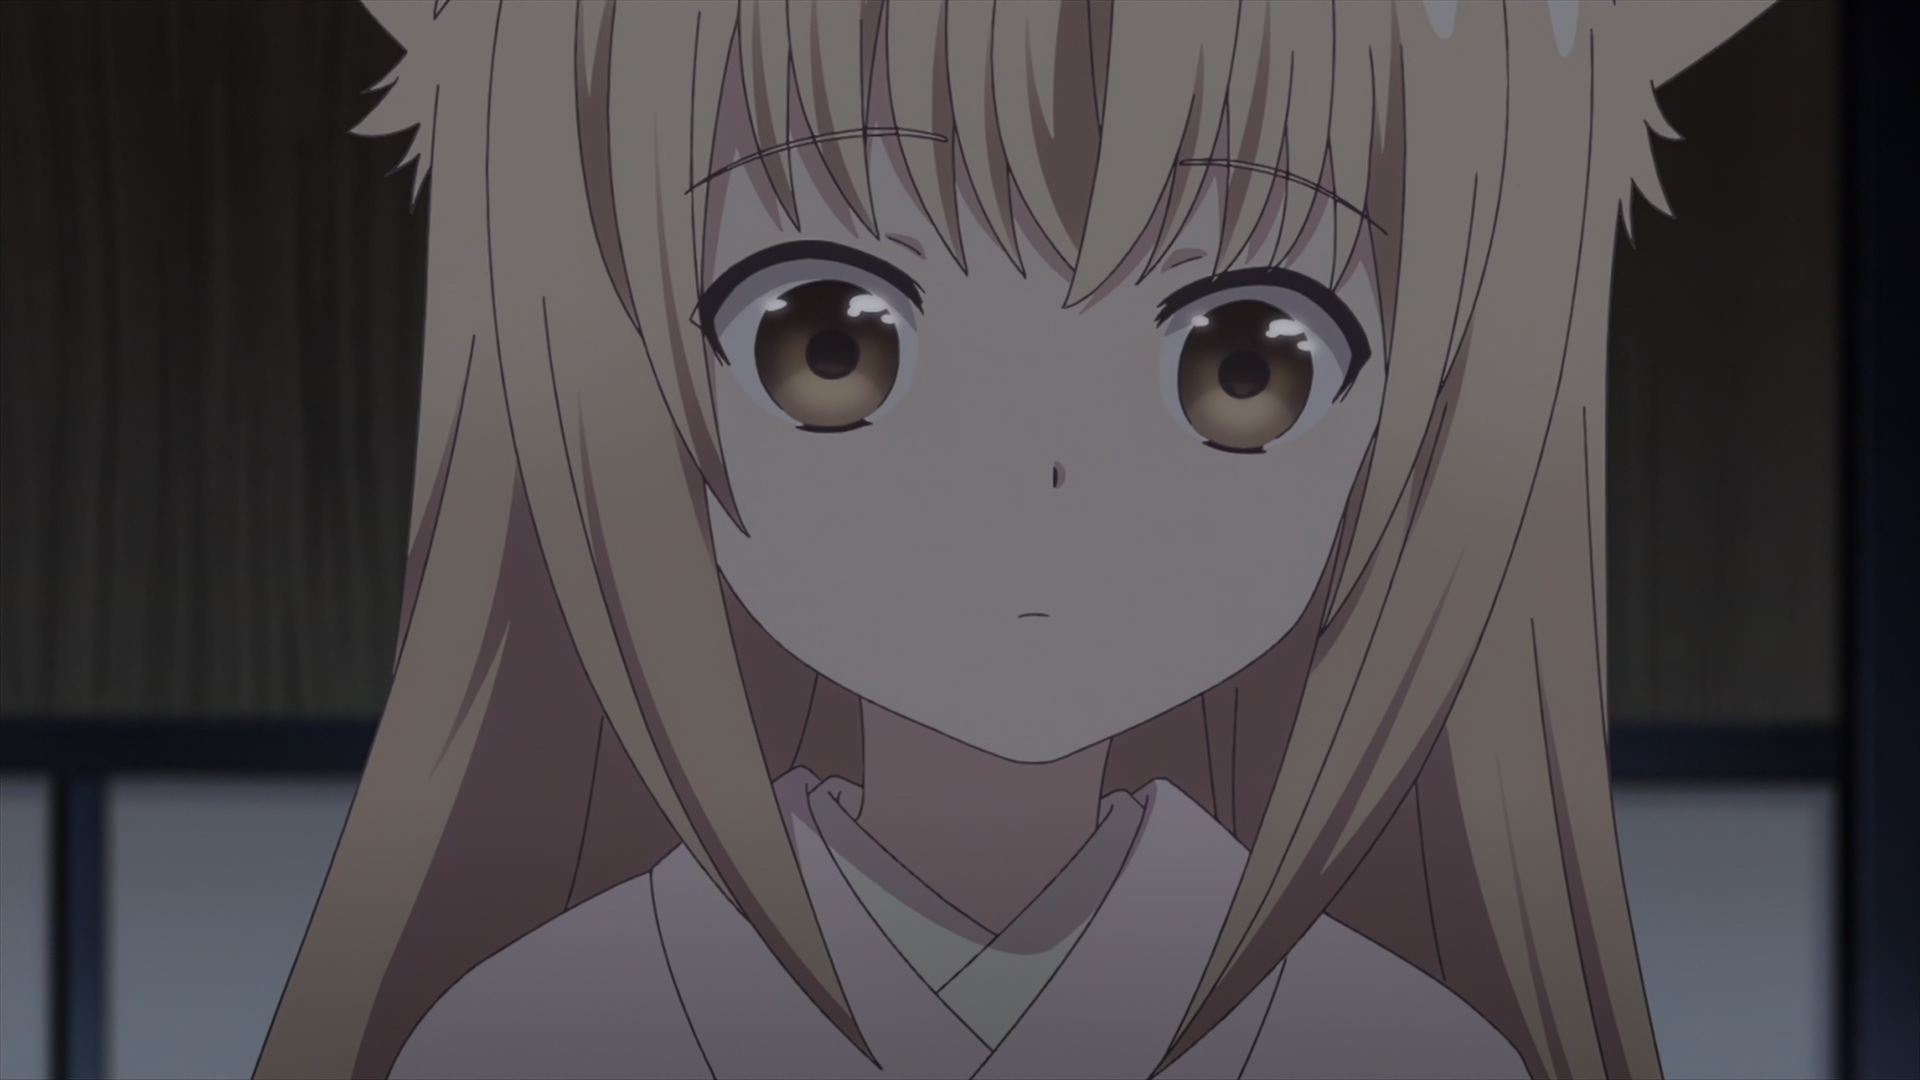柚: (253, 1, 1778, 1080)
